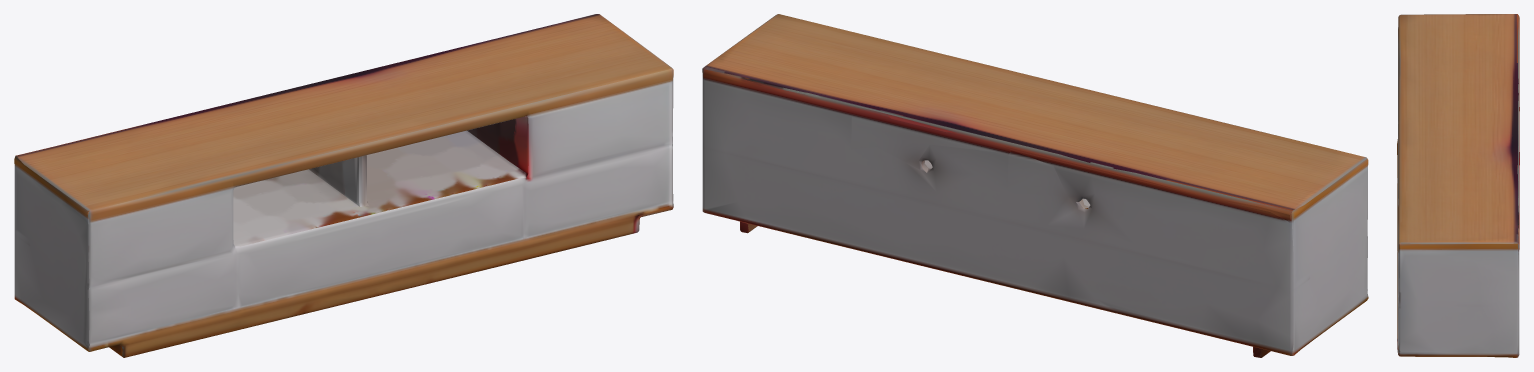
File: MeubleTV3_3D_textured.glb
The picture shows the model from 3 angles, left to right: view 1: azimuth 30°, elevation 25°; view 2: azimuth 150°, elevation 25°; view 3: azimuth 270°, elevation 25°; orthographic projection. The views are drawn at different scales.
Parts seen in each view (by area): view 1: temp_mesh.ply; view 2: temp_mesh.ply; view 3: temp_mesh.ply.
Boxes of the visible parts, box(x1,y1,x2,y2) form: temp_mesh.ply: box(14, 14, 673, 357); temp_mesh.ply: box(702, 14, 1368, 357); temp_mesh.ply: box(1397, 14, 1519, 357).
Bounding box in the file's own units: 1.97 × 0.506 × 0.4462.
Materials: 1 (1 with a texture image).
